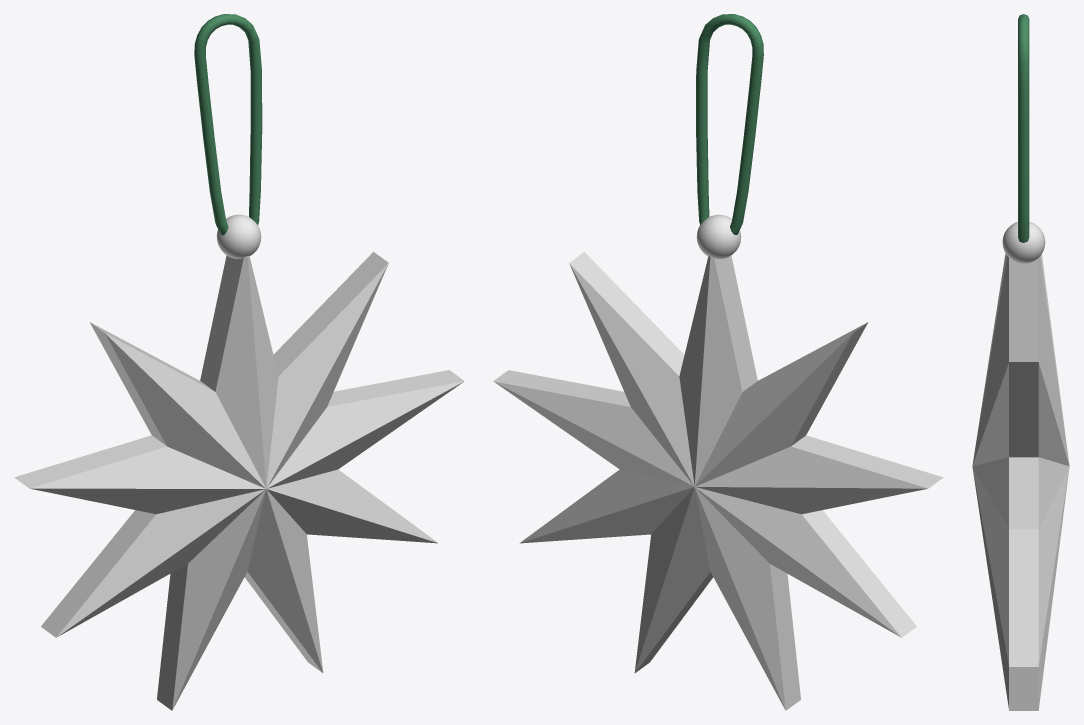
The model's file is Star.fbx.
The picture shows the model from 3 angles, left to right: view 1: azimuth 30°, elevation 25°; view 2: azimuth 150°, elevation 25°; view 3: azimuth 270°, elevation 25°; orthographic projection. The views are drawn at different scales.
Visible parts, largest first — view 1: Star, Sphere.006, Sphere; view 2: Star, Sphere.006, Sphere; view 3: Star, Sphere.006, Sphere.
Part boxes in pixels (x1=…): Star: x1=14, y1=252, x2=464, y2=710; Sphere.006: x1=194, y1=14, x2=262, y2=235; Sphere: x1=216, y1=214, x2=261, y2=258; Star: x1=493, y1=252, x2=943, y2=710; Sphere.006: x1=696, y1=14, x2=763, y2=234; Sphere: x1=696, y1=214, x2=741, y2=259; Star: x1=972, y1=253, x2=1069, y2=710; Sphere.006: x1=1018, y1=14, x2=1029, y2=242; Sphere: x1=1002, y1=221, x2=1045, y2=263.
Size of the model in its own units: 55.07 by 81.72 by 11.07.
